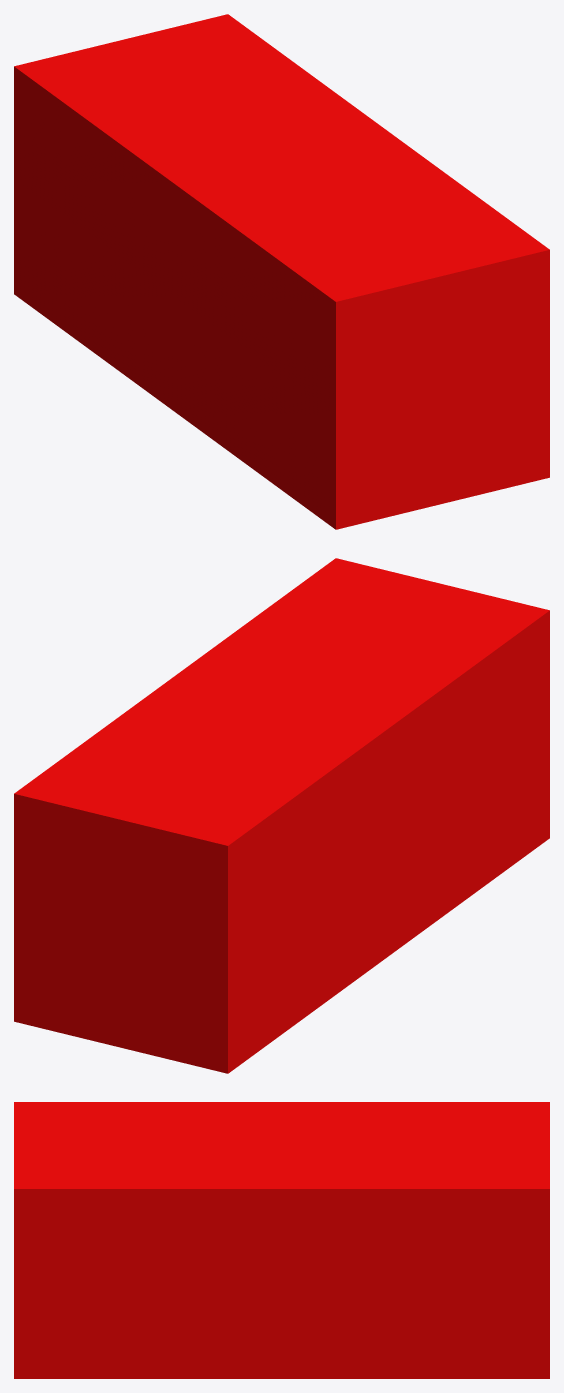
Rendered from arm_r_4midph_col.dae.
3 views of the same model, one above another, from view 1: azimuth 30°, elevation 25°; view 2: azimuth 150°, elevation 25°; view 3: azimuth 270°, elevation 25° (orthographic). The views are drawn at different scales.
Visible parts, largest first — view 1: node0; view 2: node0; view 3: node0.
Part boxes in pixels (left/top/right/bottom): node0: left=14, top=14, right=549, bottom=529; node0: left=14, top=558, right=549, bottom=1073; node0: left=14, top=1102, right=549, bottom=1378.
Size of the model in its own units: 0.00917 by 0.00933 by 0.0239.
